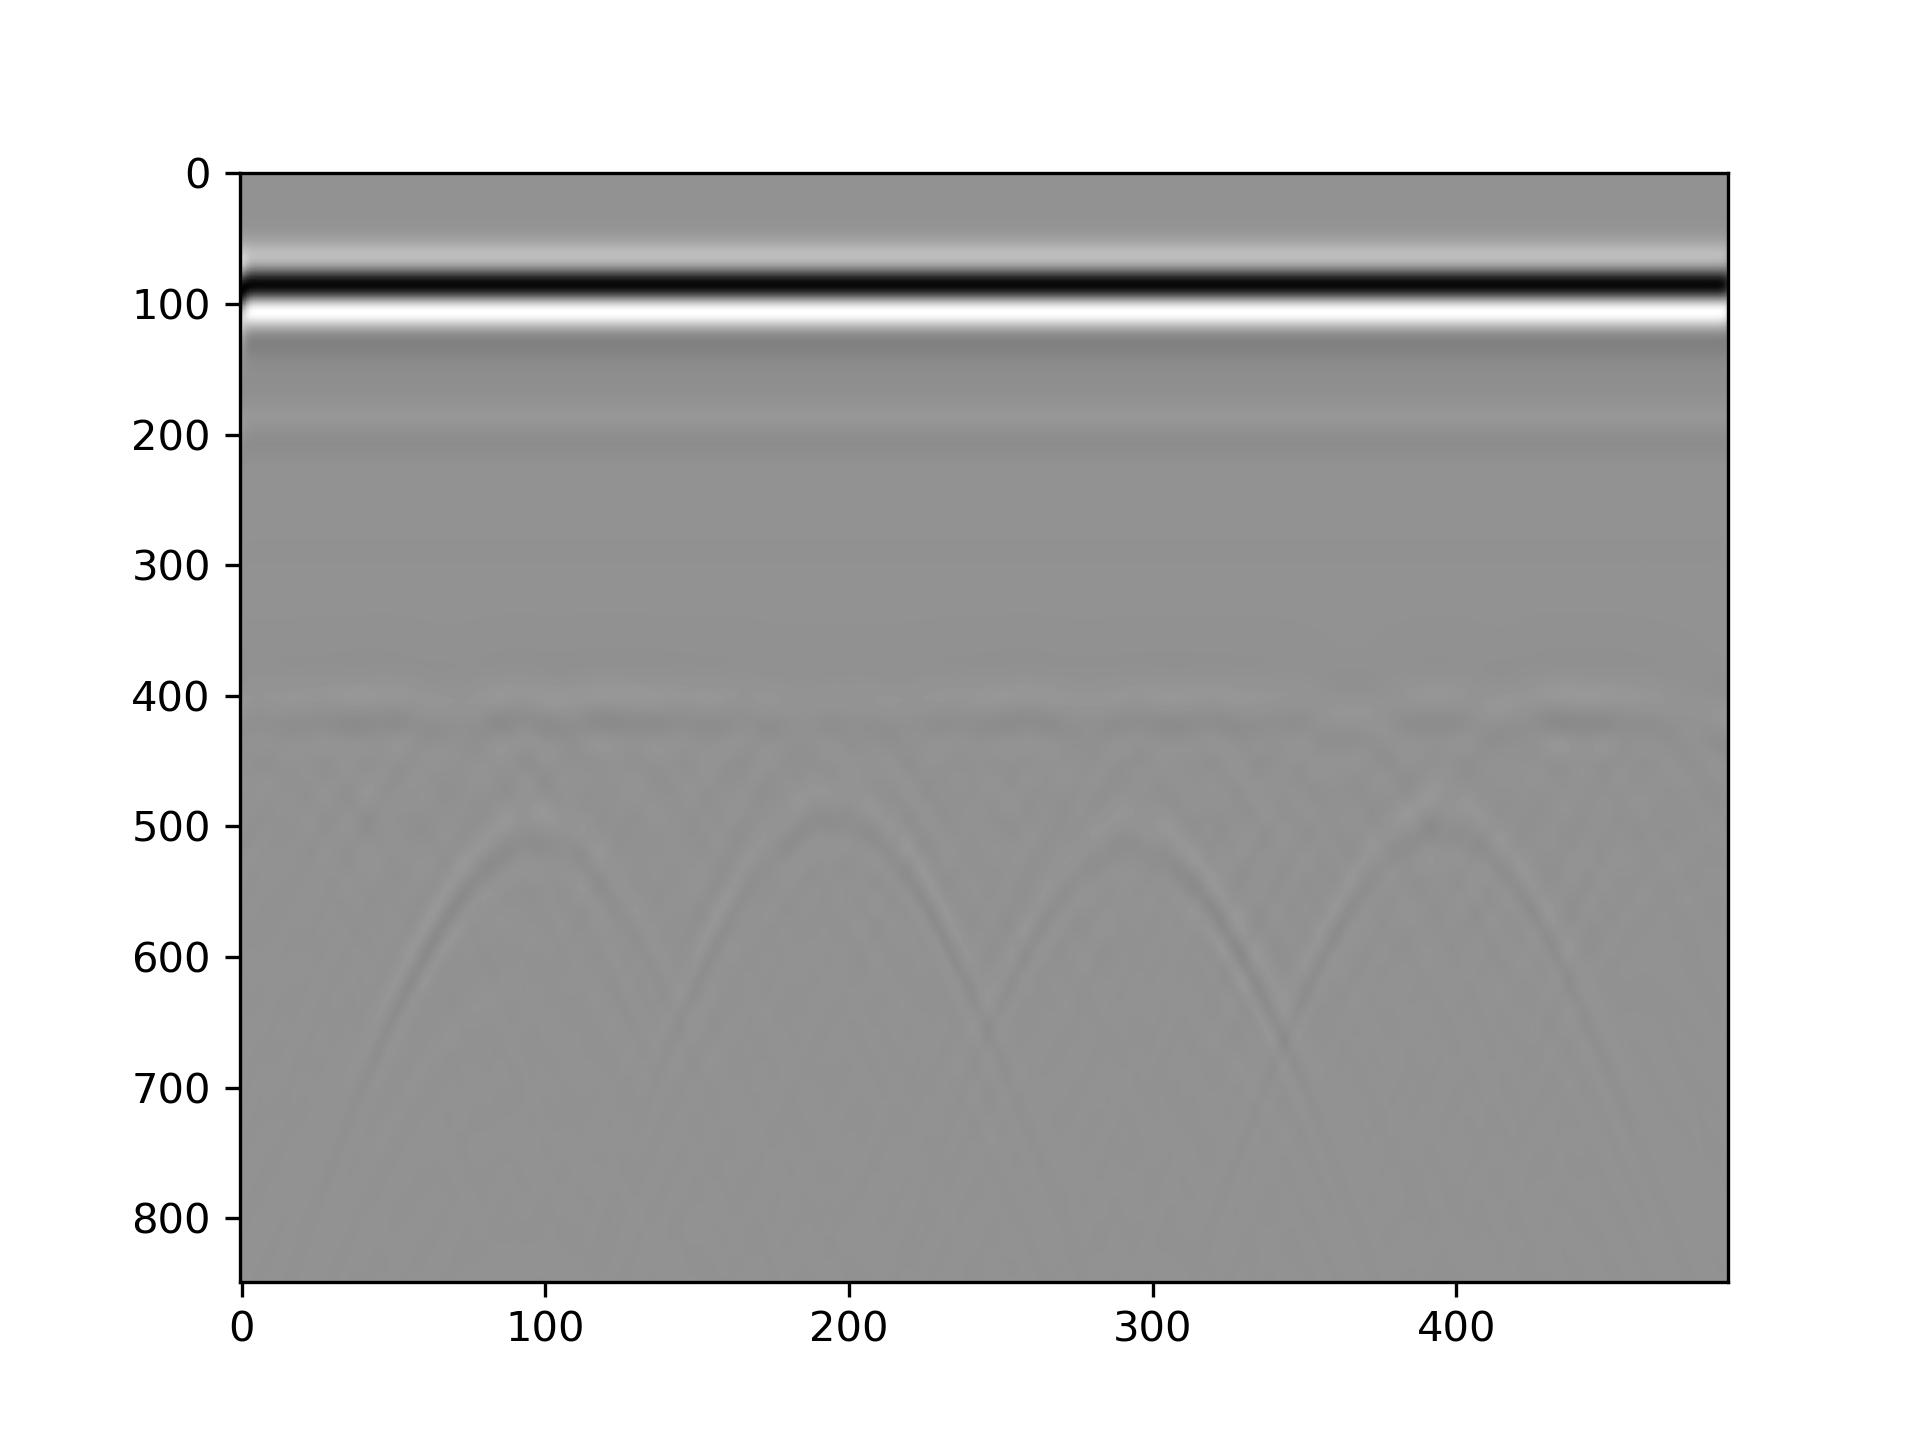钢筋: (810, 784, 862, 833), (505, 784, 555, 833), (1116, 784, 1166, 833), (1421, 784, 1471, 833)
